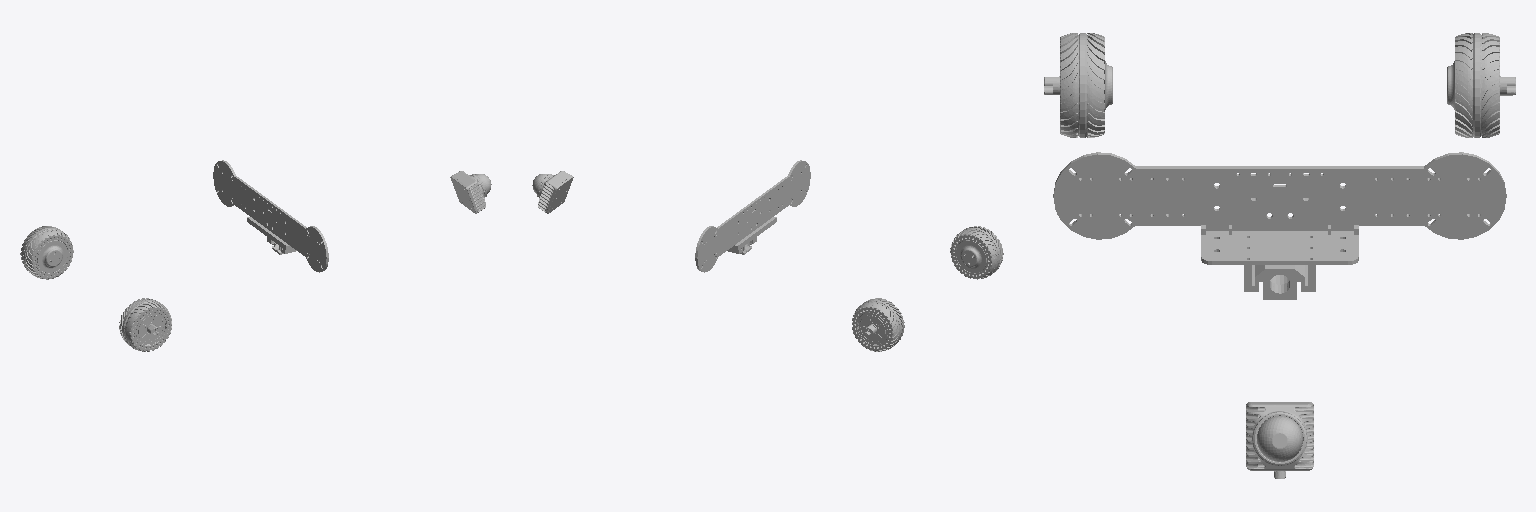
The robot description file, URDF, robot "robot_display":
<?xml version="1.0" encoding="utf-8"?>
<!-- This URDF was automatically created by SolidWorks to URDF Exporter! Originally created by Stephen Brawner (brawner@gmail.com) 
     Commit Version: 1.6.0-1-g15f4949  Build Version: 1.6.7594.29634
     For more information, please see http://wiki.ros.org/sw_urdf_exporter -->
<robot
  name="robot_display">
  <link name="base_footprint"/>
  <link
    name="base_link">
    <inertial>
      <origin
        xyz="1.11544500205192 0.265203405324961 -0.252162286861923"
        rpy="0 0 0" />
      <mass
        value="1.59748726088602" />
      <inertia
        ixx="0.00140482023652803"
        ixy="3.03994060131071E-05"
        ixz="1.66166306888673E-07"
        iyy="0.0177022267151651"
        iyz="-2.39284079638878E-07"
        izz="0.0170900575364486" />
    </inertial>
    <visual>
      <origin
        xyz="0 0 0"
        rpy="0 0 0" />
      <geometry>
        <mesh
          filename="package://robot_display/meshes/base_link.STL" />
      </geometry>
      <material
        name="">
        <color
          rgba="0.752941176470588 0.752941176470588 0.752941176470588 1" />
      </material>
    </visual>
    <collision>
      <origin
        xyz="0 0 0"
        rpy="0 0 0" />
      <geometry>
        <mesh
          filename="package://robot_display/meshes/base_link.STL" />
      </geometry>
    </collision>
  </link>
    <joint name="base_footprint_joint" type="fixed">
    <parent link="base_footprint"/>
    <child link="base_link"/>
    <origin xyz="0 0 0.105" rpy="0 0 0"/>
  </joint>
  <link
    name="wheel_left_link">
    <inertial>
      <origin
        xyz="-7.8544E-07 0.00048137 1.1176E-06"
        rpy="0 0 0" />
      <mass
        value="0.31548" />
      <inertia
        ixx="0.00022112"
        ixy="3.5831E-10"
        ixz="-6.7212E-09"
        iyy="0.00035708"
        iyz="1.4252E-08"
        izz="0.00022113" />
    </inertial>
    <visual>
      <origin
        xyz="0 0 0"
        rpy="0 0 0" />
      <geometry>
        <mesh
          filename="package://robot_display/meshes/wheel_left_link.STL" />
      </geometry>
      <material
        name="">
        <color
          rgba="0.75294 0.75294 0.75294 1" />
      </material>
    </visual>
    <collision>
      <origin
        xyz="0 0 0"
        rpy="0 0 0" />
      <geometry>
        <mesh
          filename="package://robot_display/meshes/wheel_left_link.STL" />
      </geometry>
    </collision>
  </link>
  <joint
    name="wheel_left_joint"
    type="continuous">
    <origin
      xyz="0.74187 0.064039 0.27294"
      rpy="0 -1.5708 0" />
    <parent
      link="base_link" />
    <child
      link="wheel_left_link" />
    <axis
      xyz="0 -1 0" />
  </joint>
  <link
    name="wheel_right_link">
    <inertial>
      <origin
        xyz="7.8544E-07 -0.00048137 1.1176E-06"
        rpy="0 0 0" />
      <mass
        value="0.31548" />
      <inertia
        ixx="0.00022112"
        ixy="3.5832E-10"
        ixz="6.7212E-09"
        iyy="0.00035708"
        iyz="-1.4252E-08"
        izz="0.00022113" />
    </inertial>
    <visual>
      <origin
        xyz="0 0 0"
        rpy="0 0 0" />
      <geometry>
        <mesh
          filename="package://robot_display/meshes/wheel_right_link.STL" />
      </geometry>
      <material
        name="">
        <color
          rgba="0.75294 0.75294 0.75294 1" />
      </material>
    </visual>
    <collision>
      <origin
        xyz="0 0 0"
        rpy="0 0 0" />
      <geometry>
        <mesh
          filename="package://robot_display/meshes/wheel_right_link.STL" />
      </geometry>
    </collision>
  </link>
  <joint
    name="wheel_right_joint"
    type="continuous">
    <origin
      xyz="0.74187 0.44004 0.27293"
      rpy="0 -1.5708 0" />
    <parent
      link="base_link" />
    <child
      link="wheel_right_link" />
    <axis
      xyz="0 -1 0" />
  </joint>
  <link
    name="screw_link">
    <inertial>
      <origin
        xyz="-0.019569 6.8668E-05 -0.018267"
        rpy="0 0 0" />
      <mass
        value="0.28998" />
      <inertia
        ixx="0.0024651"
        ixy="3.3095E-09"
        ixz="-1.5271E-06"
        iyy="0.00012534"
        iyz="-3.2943E-09"
        izz="0.0024814" />
    </inertial>
    <visual>
      <origin
        xyz="0 0 0"
        rpy="0 0 0" />
      <geometry>
        <mesh
          filename="package://robot_display/meshes/screw_link.STL" />
      </geometry>
      <material
        name="">
        <color
          rgba="0.75294 0.75294 0.75294 1" />
      </material>
    </visual>
    <collision>
      <origin
        xyz="0 0 0"
        rpy="0 0 0" />
      <geometry>
        <mesh
          filename="package://robot_display/meshes/screw_link.STL" />
      </geometry>
    </collision>
  </link>
  <joint
    name="screw_joint"
    type="prismatic">
    <origin
      xyz="1.1233 0.25204 0.33458"
      rpy="0 -1.5708 0" />
    <parent
      link="base_link" />
    <child
      link="screw_link" />
    <axis
      xyz="0 0 1" />
    <limit
      lower="0"
      upper="0"
      effort="0"
      velocity="0" />
  </joint>
  <link
    name="camera_link">
    <inertial>
      <origin
        xyz="-0.012844 -0.00048924 0.00011816"
        rpy="0 0 0" />
      <mass
        value="0.032639" />
      <inertia
        ixx="4.0769E-05"
        ixy="-2.0878E-07"
        ixz="8.1101E-08"
        iyy="4.4253E-06"
        iyz="2.2502E-07"
        izz="4.0166E-05" />
    </inertial>
    <visual>
      <origin
        xyz="0 0 0"
        rpy="0 0 0" />
      <geometry>
        <mesh
          filename="package://robot_display/meshes/camera_link.STL" />
      </geometry>
      <material
        name="">
        <color
          rgba="0.75294 0.75294 0.75294 1" />
      </material>
    </visual>
    <collision>
      <origin
        xyz="0 0 0"
        rpy="0 0 0" />
      <geometry>
        <mesh
          filename="package://robot_display/meshes/camera_link.STL" />
      </geometry>
    </collision>
  </link>
  <joint
    name="camera_joint"
    type="fixed">
    <origin
      xyz="1.4863 0.25203 0.34043"
      rpy="-1.5708 -1.5706 -1.5708" />
    <parent
      link="base_link" />
    <child
      link="camera_link" />
    <axis
      xyz="0 0 0" />
  </joint>
  <link
    name="livox_link">
    <inertial>
      <origin
        xyz="-0.0011535 -1.685E-05 0.004186"
        rpy="0 0 0" />
      <mass
        value="0.052593" />
      <inertia
        ixx="1.1365E-05"
        ixy="-5.6844E-09"
        ixz="5.266E-10"
        iyy="1.1397E-05"
        iyz="-6.4096E-10"
        izz="1.9179E-05" />
    </inertial>
    <visual>
      <origin
        xyz="0 0 0"
        rpy="0 0 0" />
      <geometry>
        <mesh
          filename="package://robot_display/meshes/livox_link.STL" />
      </geometry>
      <material
        name="">
        <color
          rgba="0.75294 0.75294 0.75294 1" />
      </material>
    </visual>
    <collision>
      <origin
        xyz="0 0 0"
        rpy="0 0 0" />
      <geometry>
        <mesh
          filename="package://robot_display/meshes/livox_link.STL" />
      </geometry>
    </collision>
  </link>
  <joint
    name="livox_joint"
    type="fixed">
    <origin
      xyz="1.5728 0.25204 0.28994"
      rpy="-0.00046846 -1.2217 -3.1412" />
    <parent
      link="base_link" />
    <child
      link="livox_link" />
    <axis
      xyz="0 0 0" />
  </joint>
</robot>

--- What the picture shows (computed from the rendered views, not written in the file) ---
The picture shows the robot from 3 angles, left to right: view 1: azimuth 30°, elevation 25°; view 2: azimuth 150°, elevation 25°; view 3: azimuth 270°, elevation 25°; orthographic projection.
Robot: robot_display — 7 links, 6 joints (2 continuous, 1 prismatic, 3 fixed); root link base_footprint; default pose: every joint at zero.
Visible links, largest first — view 1: screw_link, wheel_left_link, wheel_right_link, livox_link; view 2: screw_link, wheel_right_link, wheel_left_link, livox_link; view 3: screw_link, wheel_right_link, wheel_left_link, livox_link.
Link boxes in pixels (box(x1,y1,x2,y2)): screw_link: box(213, 160, 328, 272); wheel_left_link: box(119, 298, 171, 351); wheel_right_link: box(20, 226, 73, 279); livox_link: box(450, 171, 491, 213); screw_link: box(695, 160, 810, 272); wheel_right_link: box(852, 298, 904, 351); wheel_left_link: box(950, 226, 1003, 279); livox_link: box(532, 171, 573, 213); screw_link: box(1053, 152, 1506, 299); wheel_right_link: box(1447, 33, 1515, 137); wheel_left_link: box(1044, 33, 1112, 137); livox_link: box(1246, 402, 1313, 478).
Bounding box of the posed robot: 0.9159 × 0.449 × 0.1581 m (x, y, z).
Meshes: 6 distinct files referenced, 4 mesh visuals loaded (4 binary STL); not drawn: 2 (reference not matched to a file when rendering).
